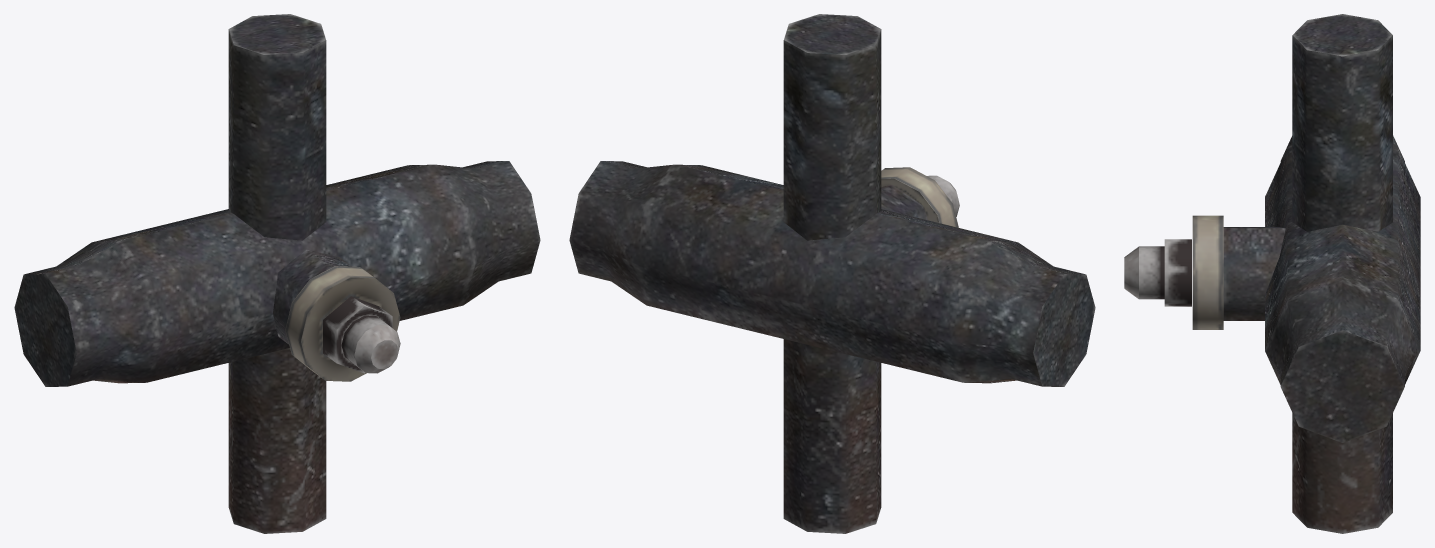
File: NM_ThinTube_04.fbx
3 views of the same model, side by side, from view 1: azimuth 30°, elevation 25°; view 2: azimuth 150°, elevation 25°; view 3: azimuth 270°, elevation 25° (orthographic).
Visible parts, largest first — view 1: Tube_X_Form_low; view 2: Tube_X_Form_low; view 3: Tube_X_Form_low.
Part boxes in pixels (left/top/right/bottom): Tube_X_Form_low: left=14, top=14, right=540, bottom=533; Tube_X_Form_low: left=569, top=14, right=1095, bottom=533; Tube_X_Form_low: left=1124, top=14, right=1420, bottom=533.
Size of the model in its own units: 45.25 by 44.65 by 25.09.
